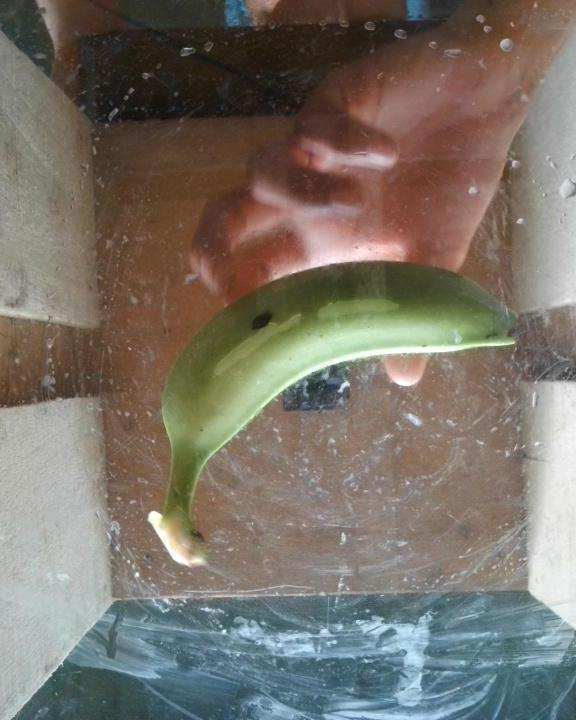CLASS B: (147, 259, 526, 566)
Class A: (239, 307, 281, 335)
